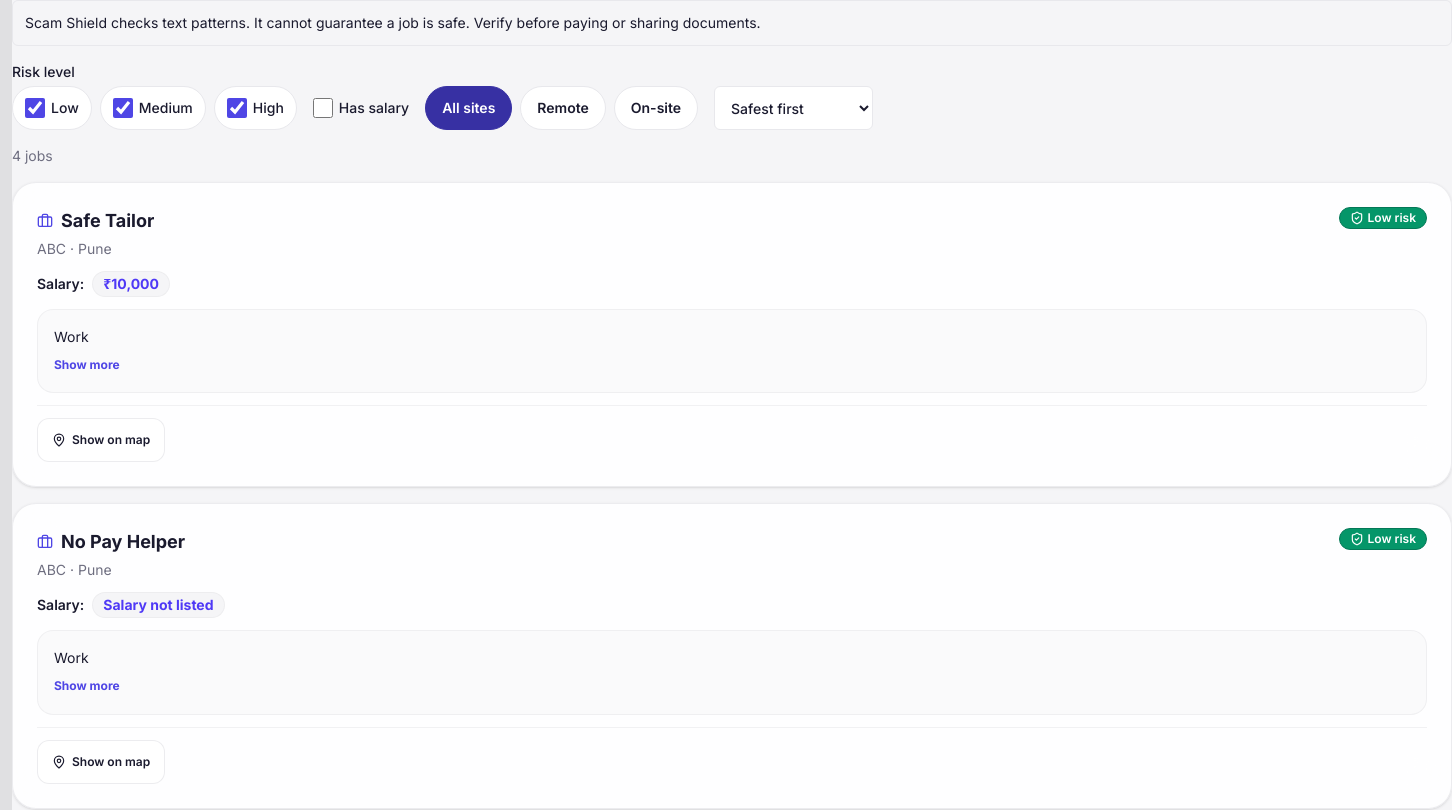
Test: JobList › filters by risk level
The width and height of the screenshot is (1452, 810).
Click the checkbox labelled "High".
click(237, 108)  # box x1=227 y1=98 x2=247 y2=118
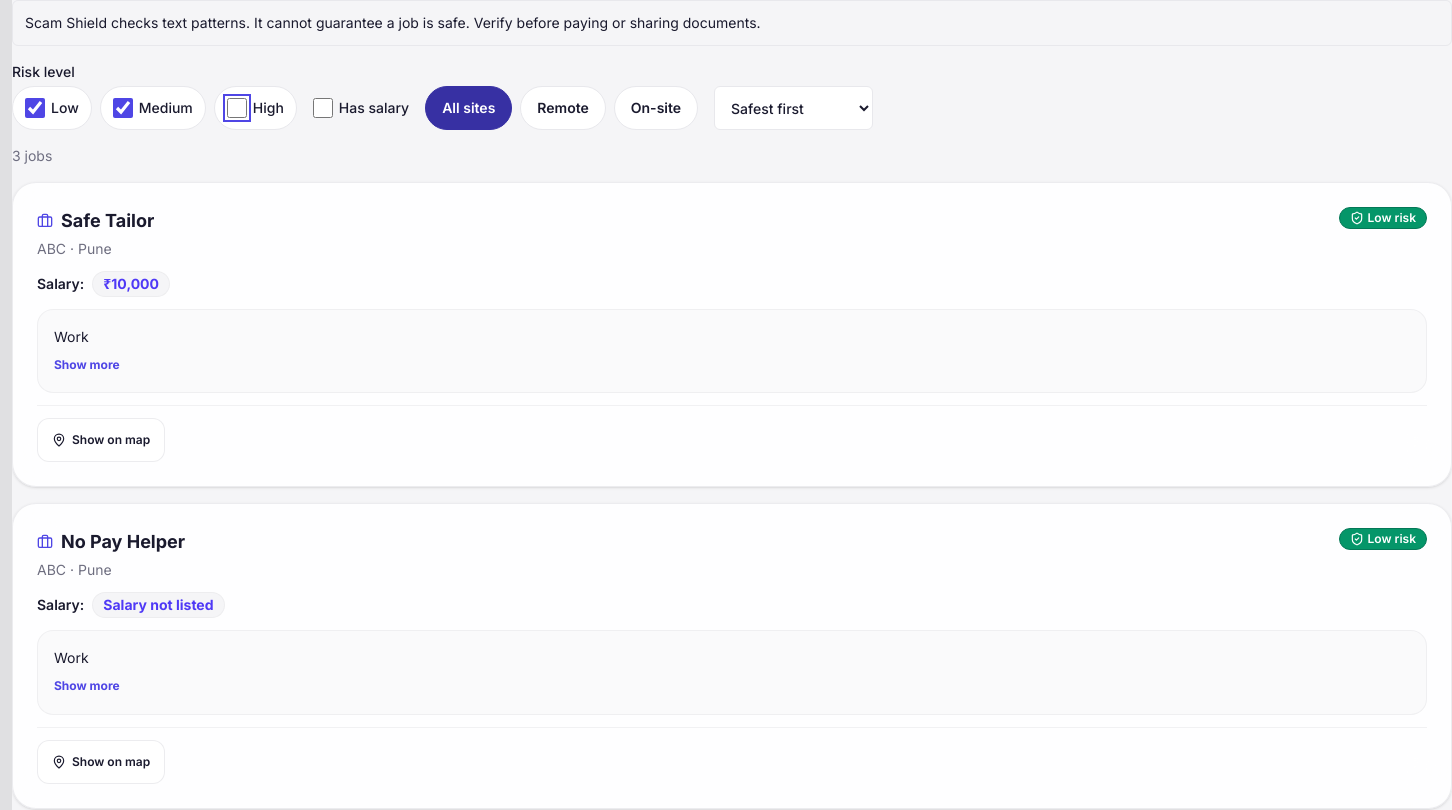
Expected: the text "3 jobs" is shown, x1=12 y1=147 x2=52 y2=164
